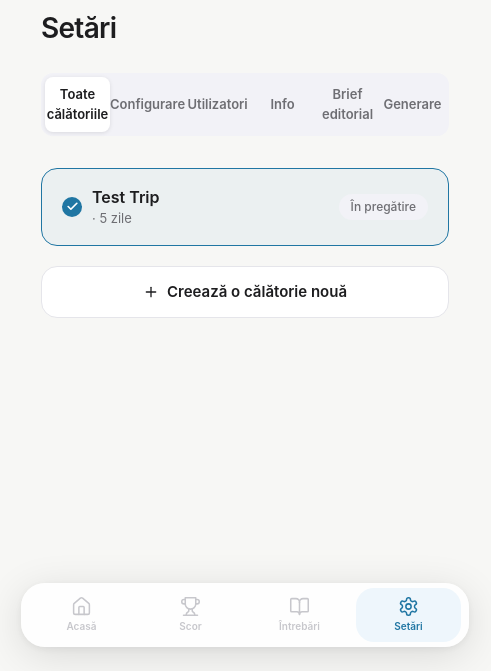
Test case: Trip editorial brief: read-only summary after publication › shows a readable summary of the saved brief, and never claims content was generated
Click the button "Brief editorial". click: (348, 104)
box: [315, 77, 380, 132]
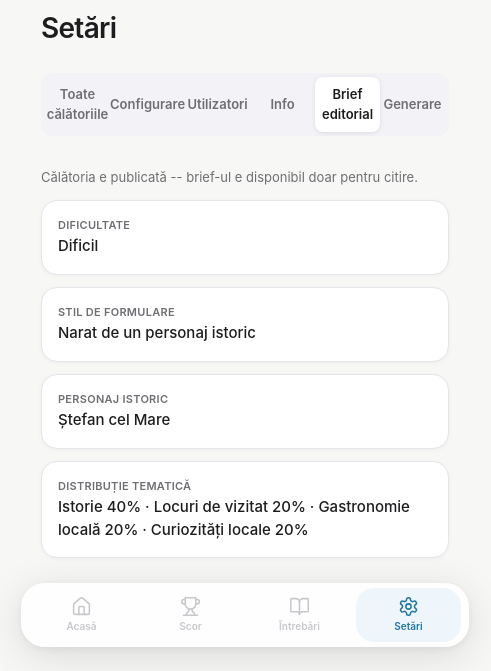
Check: the text "Dificil" is shown, box [58, 236, 98, 255]
Check: the text "Narat de un personaj istoric" is shown, box [58, 323, 256, 342]
Check: the text "Ștefan cel Mare" is shown, box [58, 410, 170, 429]
